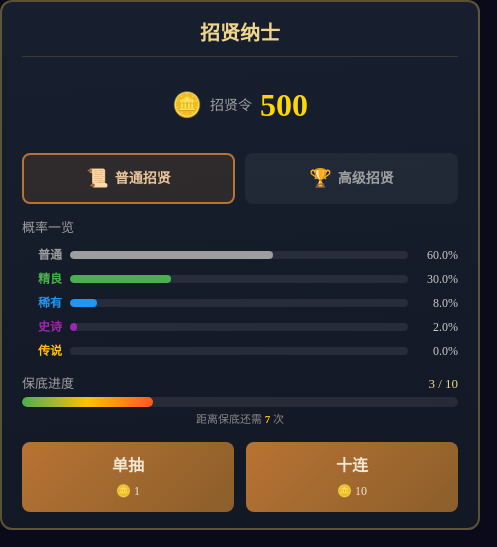
RecruitPanel › 切换到高级模式后概率表更新
Click the button with test id "mode-btn-advanced" at (352, 178), box [245,153,458,204]
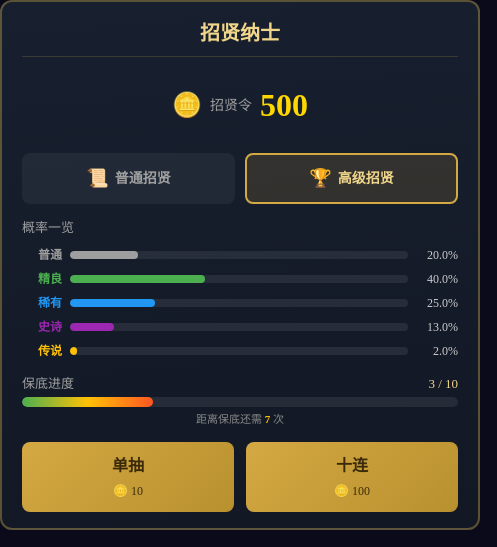
Result: the text "20.0%" is shown at [427,248,458,262]
Result: the text "60.0%" is gone
